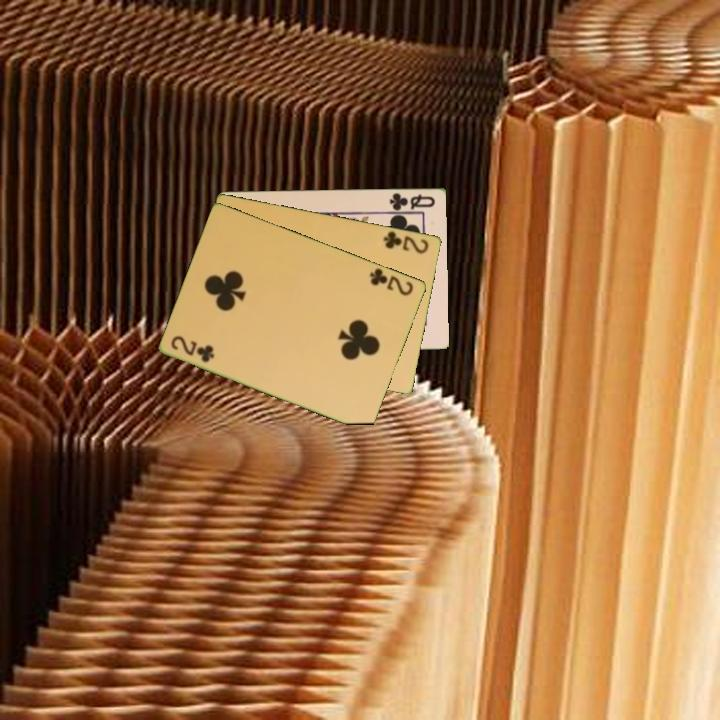2c: (366, 265, 417, 299), (168, 332, 218, 365), (380, 227, 432, 256)
Qc: (385, 189, 438, 214)
